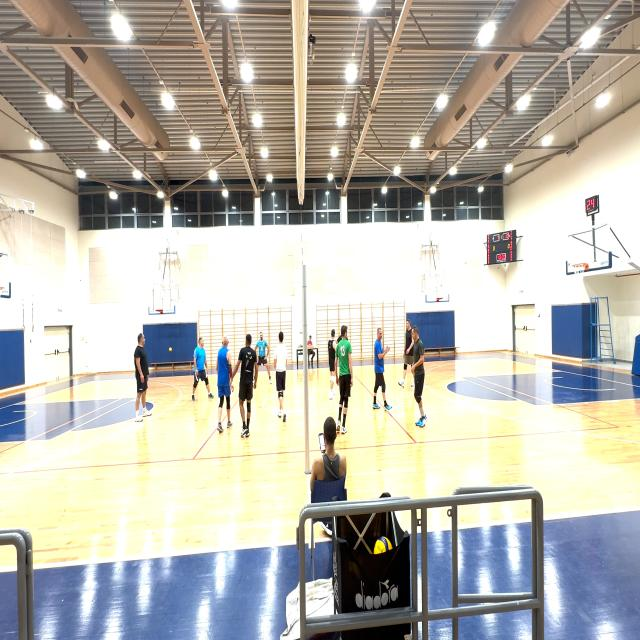volleyball: (373, 536, 393, 555), (169, 347, 172, 352)
